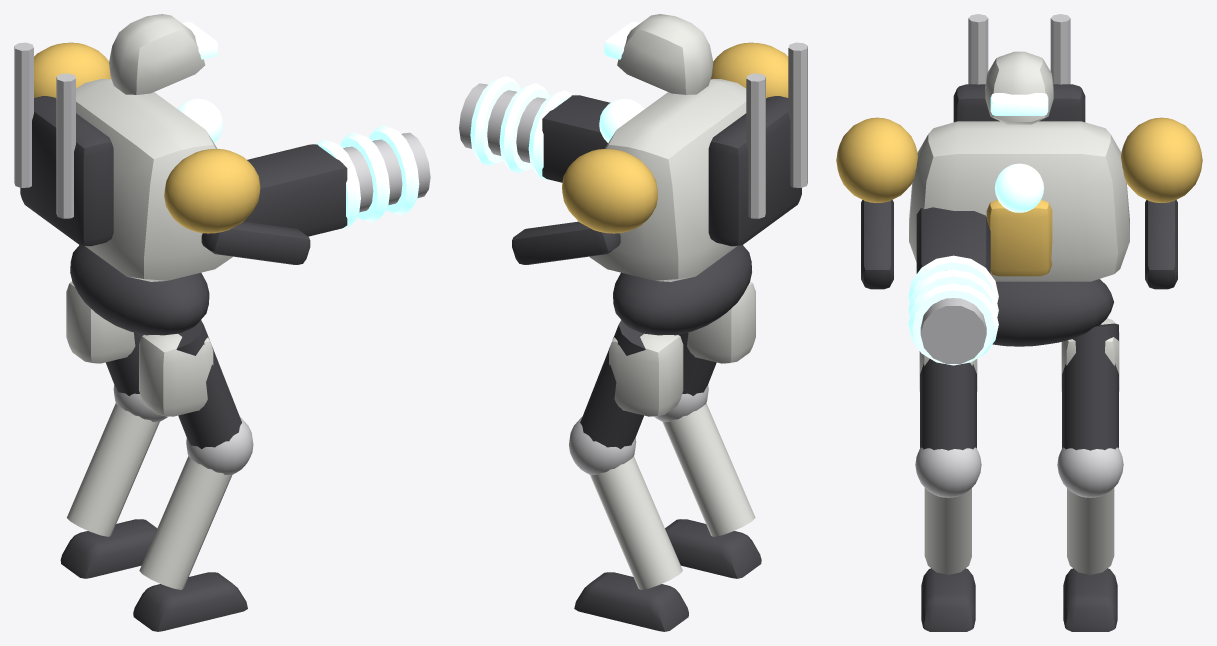
The model's file is rob_mg.glb.
The picture shows the model from 3 angles, left to right: view 1: azimuth 30°, elevation 25°; view 2: azimuth 150°, elevation 25°; view 3: azimuth 270°, elevation 25°; orthographic projection. The views are drawn at different scales.
Parts seen in each view (by area): view 1: torso_m, knee_r_m, knee_l_m, leg_r_m, leg_l_m; view 2: torso_m, knee_l_m, knee_r_m, leg_l_m, leg_r_m; view 3: torso_m, knee_l_m, knee_r_m, leg_l_m, leg_r_m.
Part boxes in pixels (x1=…): torso_m: x1=14, y1=14, x2=430, y2=335; knee_r_m: x1=133, y1=417, x2=253, y2=631; knee_l_m: x1=60, y1=385, x2=167, y2=578; leg_r_m: x1=139, y1=320, x2=241, y2=449; leg_l_m: x1=66, y1=281, x2=143, y2=395; torso_m: x1=459, y1=14, x2=807, y2=335; knee_l_m: x1=569, y1=417, x2=688, y2=631; knee_r_m: x1=654, y1=385, x2=761, y2=578; leg_l_m: x1=580, y1=320, x2=683, y2=449; leg_r_m: x1=678, y1=281, x2=755, y2=395; torso_m: x1=836, y1=14, x2=1202, y2=365; knee_l_m: x1=1057, y1=447, x2=1123, y2=631; knee_r_m: x1=915, y1=447, x2=981, y2=631; leg_l_m: x1=1061, y1=318, x2=1119, y2=450; leg_r_m: x1=919, y1=351, x2=977, y2=450.
Size of the model in its own units: 0.472 by 0.746 by 0.445.
